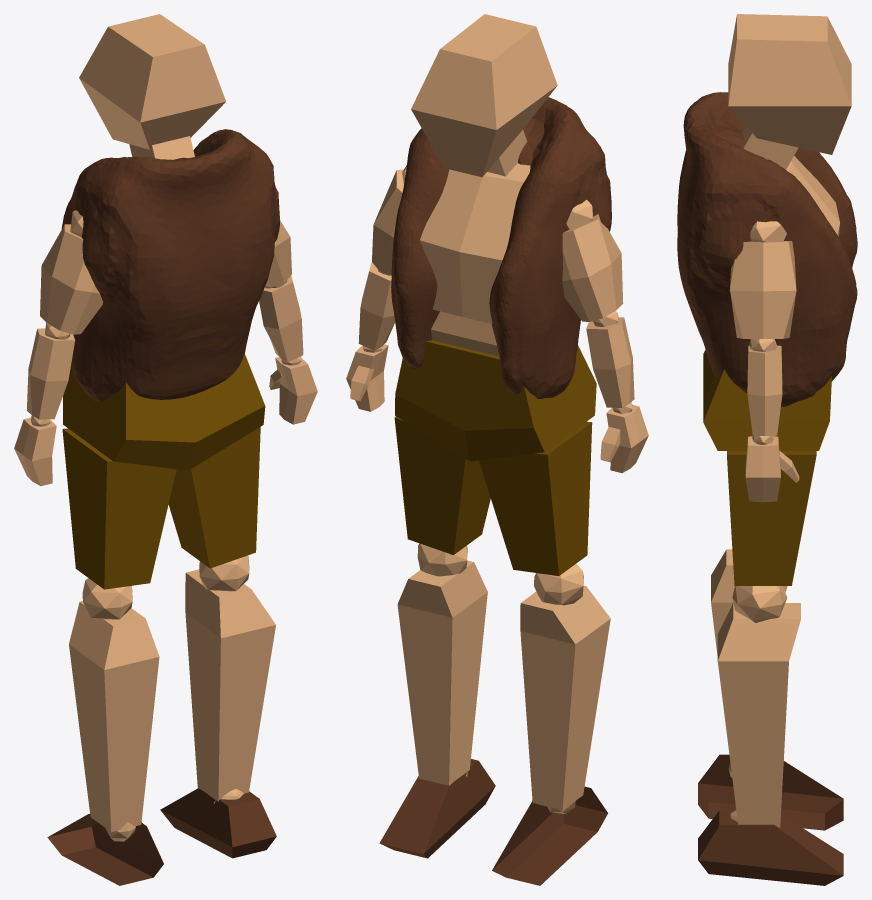
The model's file is Hack.fbx.
The picture shows the model from 3 angles, left to right: view 1: azimuth 30°, elevation 25°; view 2: azimuth 150°, elevation 25°; view 3: azimuth 270°, elevation 25°; orthographic projection.
Parts seen in each view (by area): view 1: Cube, Cube.009, Cube.006, Head, Torso, BeinLi, BeinRe, Cube.007, Cube.010, Cube.013, Cube.014, Cube.032 (+6 smaller); view 2: Cube, Torso, Head, Cube.006, Cube.009, BeinLi, Cube.002, BeinRe, Cube.007, Cube.010, Cube.013, Cube.014 (+8 smaller); view 3: Cube, Head, Cube.006, BeinRe, Cube.007, Torso, Cube.031, Cube.010, Cube.032, Cube.033, Icosphere, Cube.009 (+3 smaller).
Boxes of the visible parts, left/top/right/bottom form: Cube: left=61, top=129, right=279, bottom=402; Cube.009: left=69, top=601, right=159, bottom=832; Cube.006: left=185, top=569, right=275, bottom=801; Head: left=79, top=14, right=225, bottom=149; Torso: left=63, top=353, right=265, bottom=470; BeinLi: left=62, top=428, right=176, bottom=589; BeinRe: left=168, top=427, right=260, bottom=568; Cube.007: left=160, top=788, right=276, bottom=858; Cube.010: left=47, top=813, right=163, bottom=885; Cube.013: left=40, top=224, right=103, bottom=334; Cube.014: left=26, top=328, right=75, bottom=419; Cube.032: left=259, top=275, right=303, bottom=362; Cube: left=391, top=97, right=611, bottom=398; Torso: left=395, top=340, right=596, bottom=461; Head: left=411, top=14, right=557, bottom=177; Cube.006: left=397, top=560, right=487, bottom=785; Cube.009: left=520, top=585, right=610, bottom=810; BeinLi: left=479, top=421, right=592, bottom=575; Cube.002: left=420, top=163, right=530, bottom=323; BeinRe: left=394, top=416, right=490, bottom=554; Cube.007: left=379, top=759, right=495, bottom=858; Cube.010: left=492, top=786, right=607, bottom=885; Cube.013: left=562, top=214, right=623, bottom=321; Cube.014: left=586, top=317, right=634, bottom=407; Cube: left=677, top=92, right=857, bottom=406; Head: left=728, top=14, right=851, bottom=154; Cube.006: left=717, top=603, right=800, bottom=827; BeinRe: left=727, top=451, right=816, bottom=585; Cube.007: left=698, top=810, right=843, bottom=885; Torso: left=703, top=350, right=831, bottom=450; Cube.031: left=729, top=241, right=796, bottom=338; Cube.010: left=698, top=754, right=843, bottom=830; Cube.032: left=747, top=345, right=782, bottom=435; Cube.033: left=745, top=436, right=780, bottom=502; Icosphere: left=732, top=586, right=787, bottom=622; Cube.009: left=711, top=549, right=787, bottom=655.
Size of the model in its own units: 94.8 by 259 by 51.51.
